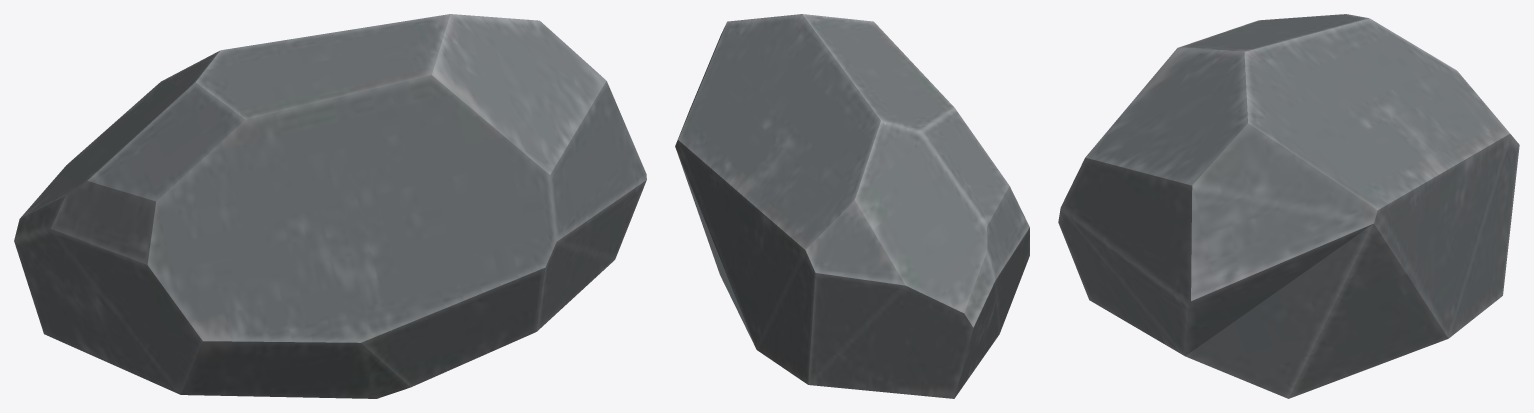
Rendered from Rock_2.fbx.
The picture shows the model from 3 angles, left to right: view 1: azimuth 30°, elevation 25°; view 2: azimuth 150°, elevation 25°; view 3: azimuth 270°, elevation 25°; orthographic projection. The views are drawn at different scales.
Parts seen in each view (by area): view 1: defaultMaterial.002; view 2: defaultMaterial.002; view 3: defaultMaterial.002.
Boxes of the visible parts, box(x1,y1,x2,y2) form: defaultMaterial.002: box(14, 14, 646, 398); defaultMaterial.002: box(675, 14, 1029, 398); defaultMaterial.002: box(1058, 14, 1519, 398).
Size of the model in its own units: 46.61 by 29.55 by 39.81.
